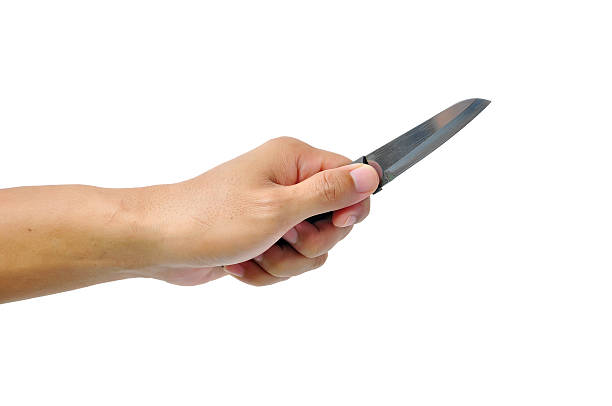knife: (310, 97, 491, 224)
